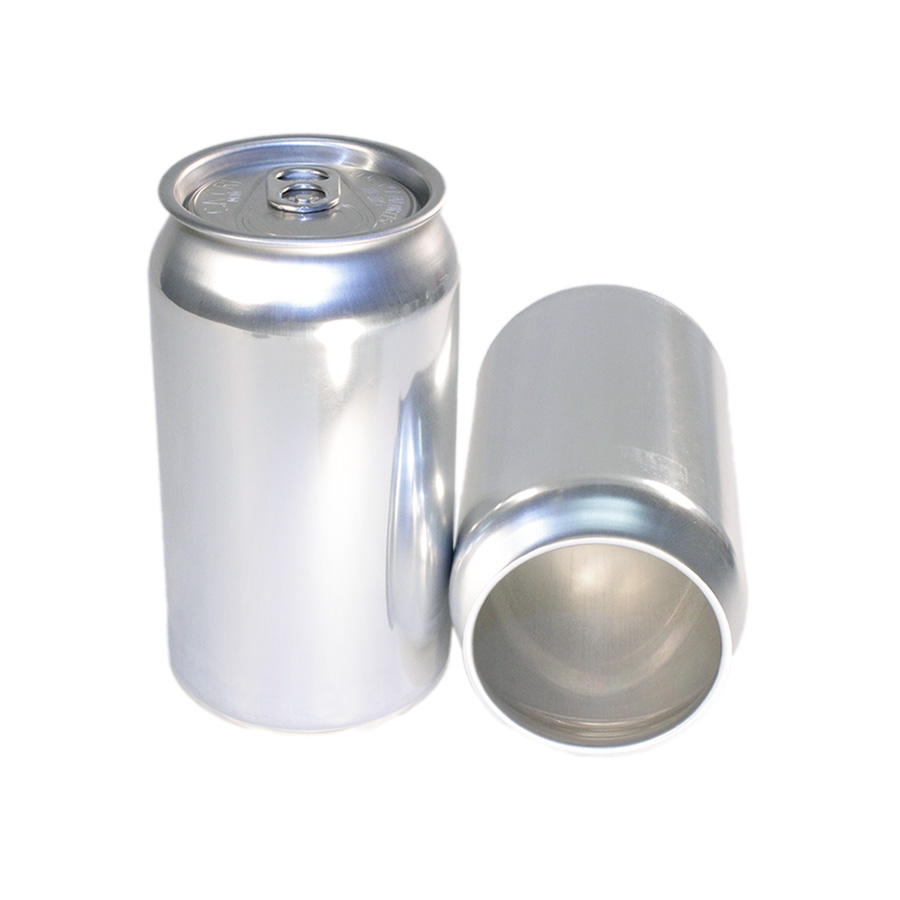cylinder: (149, 134, 461, 733), (448, 285, 748, 757)
